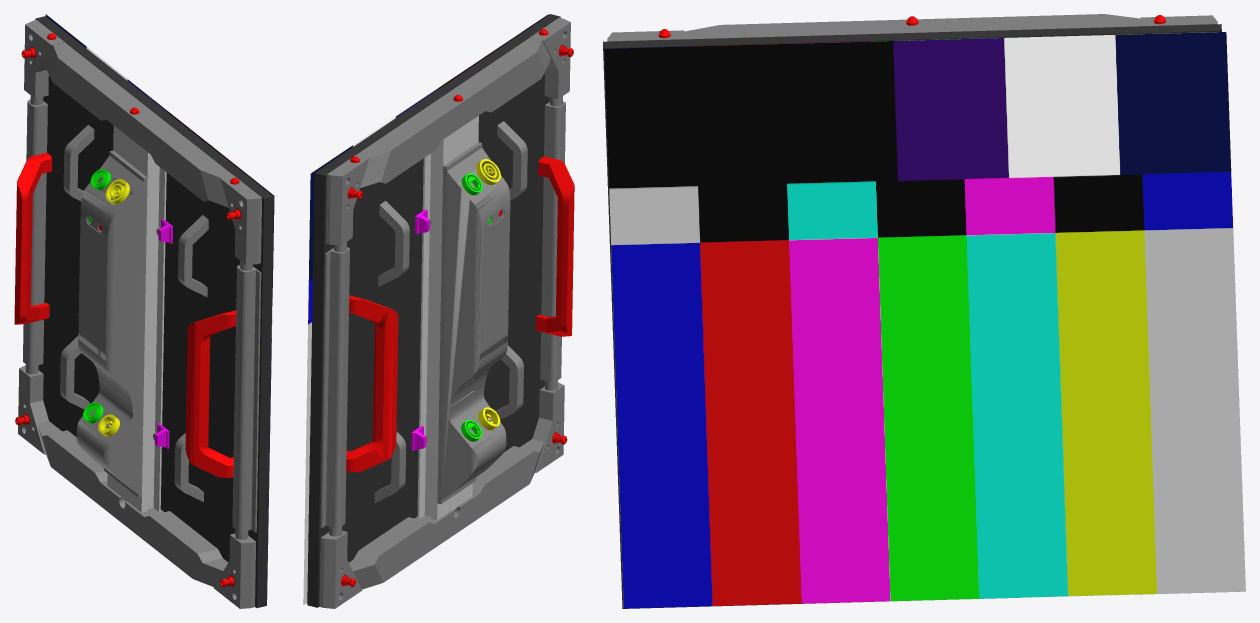
Rendered from cabinet.glb.
3 renders of one model, left to right at view 1: azimuth 30°, elevation 25°; view 2: azimuth 150°, elevation 25°; view 3: azimuth 270°, elevation 25°, orthographic. The views are drawn at different scales.
Visible parts, largest first — view 1: Group1, Mesh15__auto_1_0, Mesh12__auto__0, Mesh1__auto__0, Mesh2__auto__0, Mesh13__auto_3_0, Mesh8__auto_2_0, Mesh5__auto__0, Mesh9__auto_2_0, Mesh14__auto_3_0, Mesh46__auto_1_0, Mesh45__auto_1_0 (+3 smaller); view 2: Group1, Mesh15__auto_1_0, Mesh12__auto__0, Mesh1__auto__0, Mesh5__auto__0, Mesh13__auto_3_0, Mesh9__auto_2_0, Mesh2__auto__0, Mesh8__auto_2_0, Mesh14__auto_3_0, Plane, Mesh45__auto_1_0 (+3 smaller); view 3: Plane, Mesh12__auto__0, Group1.
Boxes of the visible parts, x1=… form: Group1: x1=35, y1=16, x2=273, y2=607; Mesh15__auto_1_0: x1=76, y1=150, x2=147, y2=497; Mesh12__auto__0: x1=24, y1=20, x2=261, y2=264; Mesh1__auto__0: x1=18, y1=365, x2=255, y2=608; Mesh2__auto__0: x1=232, y1=265, x2=261, y2=532; Mesh13__auto_3_0: x1=107, y1=125, x2=159, y2=512; Mesh8__auto_2_0: x1=185, y1=310, x2=236, y2=477; Mesh5__auto__0: x1=23, y1=100, x2=47, y2=366; Mesh9__auto_2_0: x1=14, y1=152, x2=52, y2=324; Mesh14__auto_3_0: x1=153, y1=167, x2=166, y2=511; Mesh46__auto_1_0: x1=178, y1=215, x2=208, y2=296; Mesh45__auto_1_0: x1=63, y1=124, x2=94, y2=201; Group1: x1=307, y1=14, x2=560, y2=607; Mesh15__auto_1_0: x1=437, y1=142, x2=510, y2=503; Mesh12__auto__0: x1=325, y1=17, x2=570, y2=245; Mesh1__auto__0: x1=319, y1=382, x2=564, y2=608; Mesh5__auto__0: x1=320, y1=247, x2=349, y2=527; Mesh13__auto_3_0: x1=424, y1=115, x2=478, y2=520; Mesh9__auto_2_0: x1=346, y1=295, x2=398, y2=472; Mesh2__auto__0: x1=540, y1=101, x2=565, y2=381; Mesh8__auto_2_0: x1=535, y1=156, x2=574, y2=336; Mesh14__auto_3_0: x1=417, y1=153, x2=430, y2=518; Plane: x1=303, y1=14, x2=548, y2=604; Mesh45__auto_1_0: x1=378, y1=201, x2=409, y2=286; Plane: x1=604, y1=32, x2=1245, y2=608; Mesh12__auto__0: x1=607, y1=14, x2=1217, y2=41; Group1: x1=603, y1=24, x2=1221, y2=608.
Size of the model in its own units: 0.0328 by 0.2042 by 0.2043.
9 materials, 4 textured.
